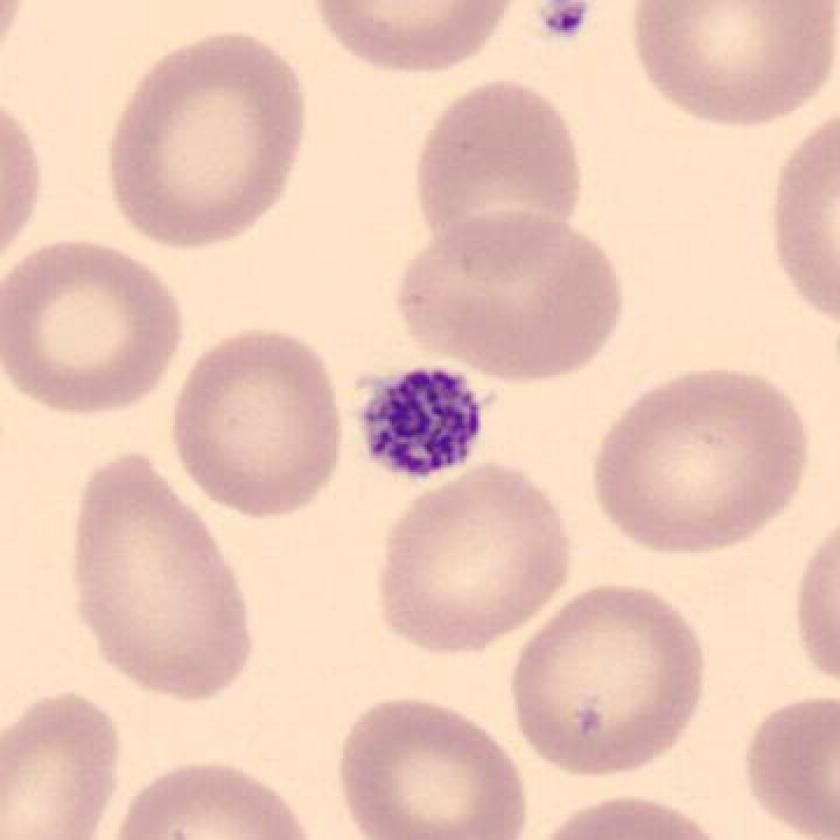platelets: (351, 353, 505, 487)
